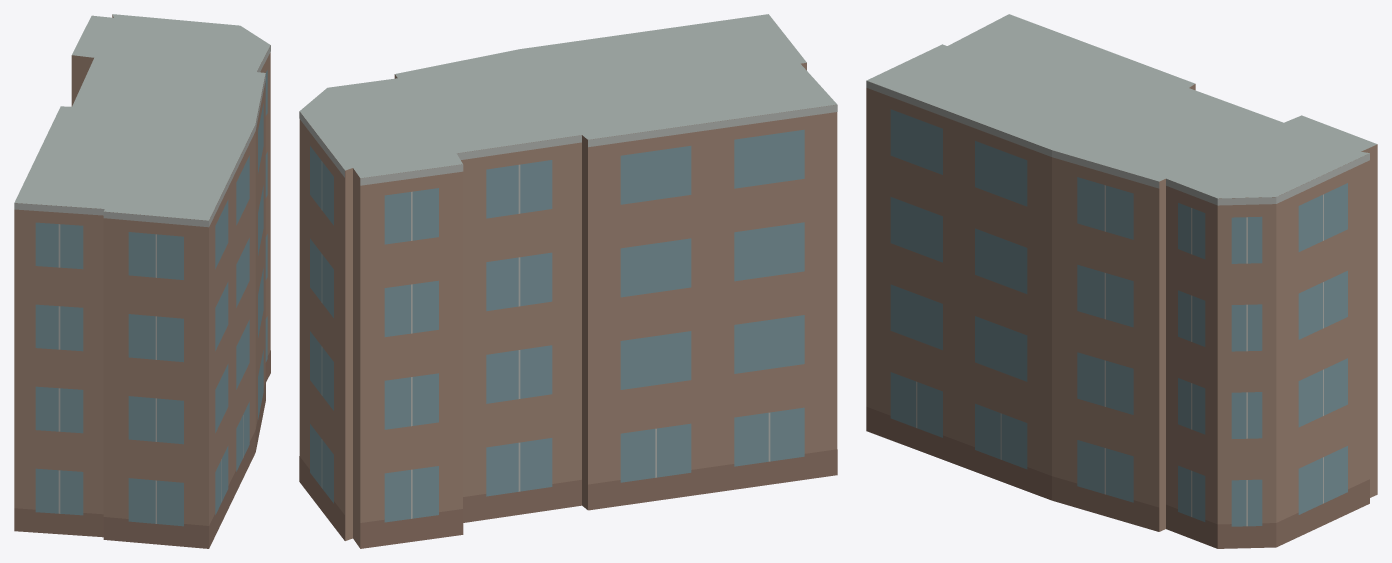
Rendered from survey-upis-32976058.glb.
3 views of the same model, side by side, from view 1: azimuth 30°, elevation 25°; view 2: azimuth 150°, elevation 25°; view 3: azimuth 270°, elevation 25° (orthographic). The views are drawn at different scales.
Visible parts, largest first — view 1: survey-upis-32976058.tmp; view 2: survey-upis-32976058.tmp; view 3: survey-upis-32976058.tmp.
Part boxes in pixels (left/top/right/bottom): survey-upis-32976058.tmp: left=14, top=14, right=270, bottom=548; survey-upis-32976058.tmp: left=299, top=14, right=837, bottom=548; survey-upis-32976058.tmp: left=866, top=14, right=1377, bottom=548.
Bounding box in the file's own units: 13.71 × 12.13 × 16.06.
